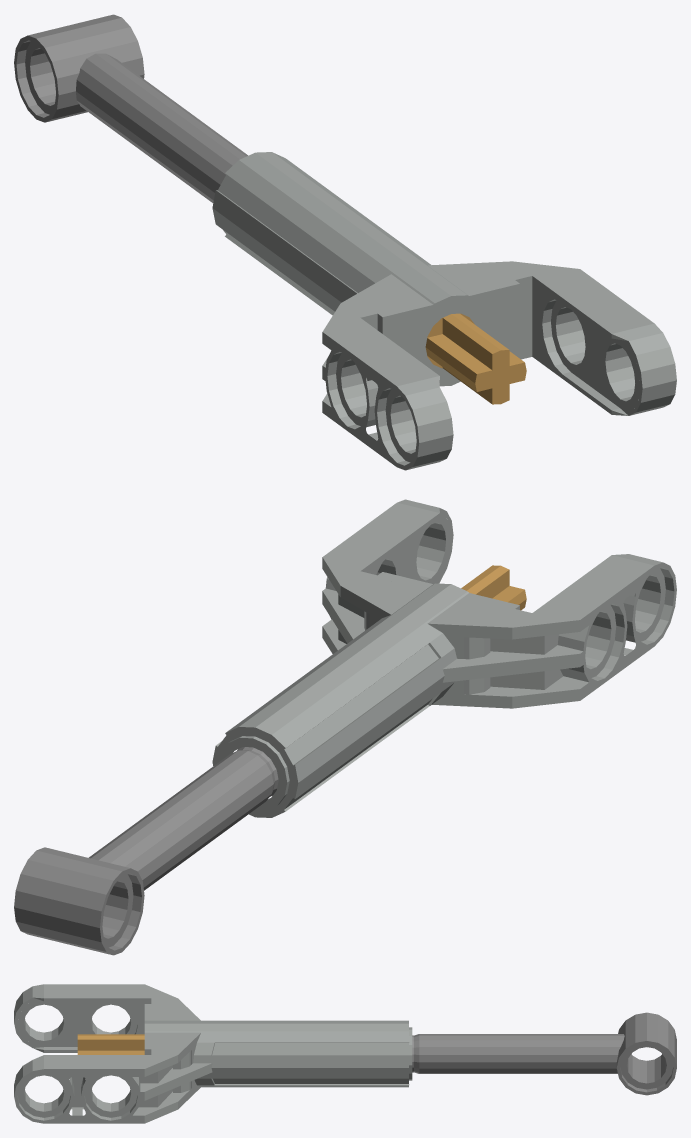
3 views of the same model, one above another, from view 1: azimuth 30°, elevation 25°; view 2: azimuth 150°, elevation 25°; view 3: azimuth 270°, elevation 25° (orthographic). The views are drawn at different scales.
Visible parts, largest first — view 1: world; view 2: world; view 3: world.
Boxes of the visible parts, x1,y1,x2,y2 form: world: [14, 14, 676, 470]; world: [14, 499, 676, 955]; world: [14, 984, 676, 1123].
Bounding box in the file's own units: 0.024 × 0.008 × 0.0792.
